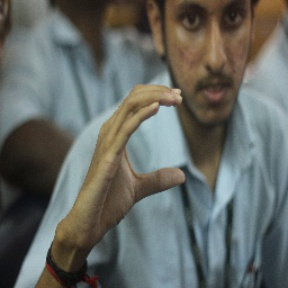C: (99, 80, 195, 203)
